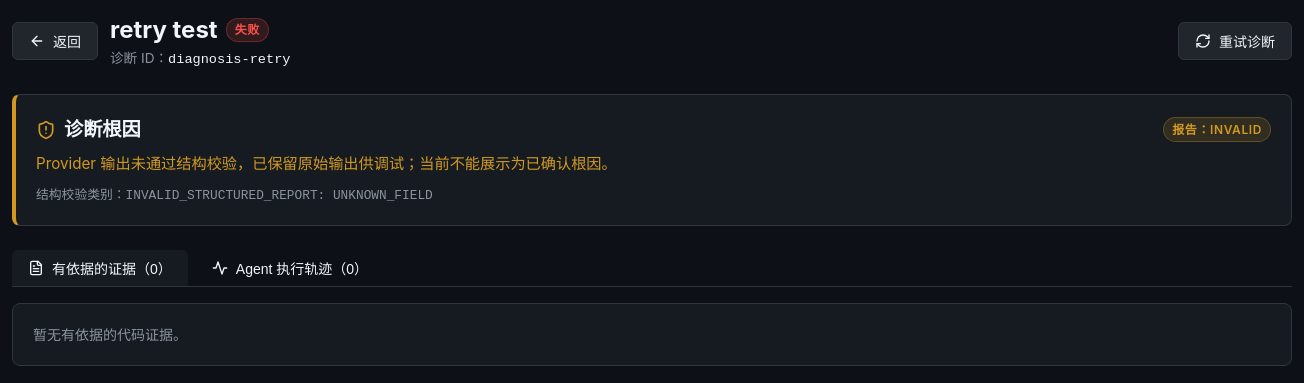
Test: DiagnosisView retry polling › clears terminal report and resumes polling after a retry
The width and height of the screenshot is (1304, 383).
Click the button "重试诊断": (1235, 41) [1178, 22, 1292, 60]
Wait 2100 ms
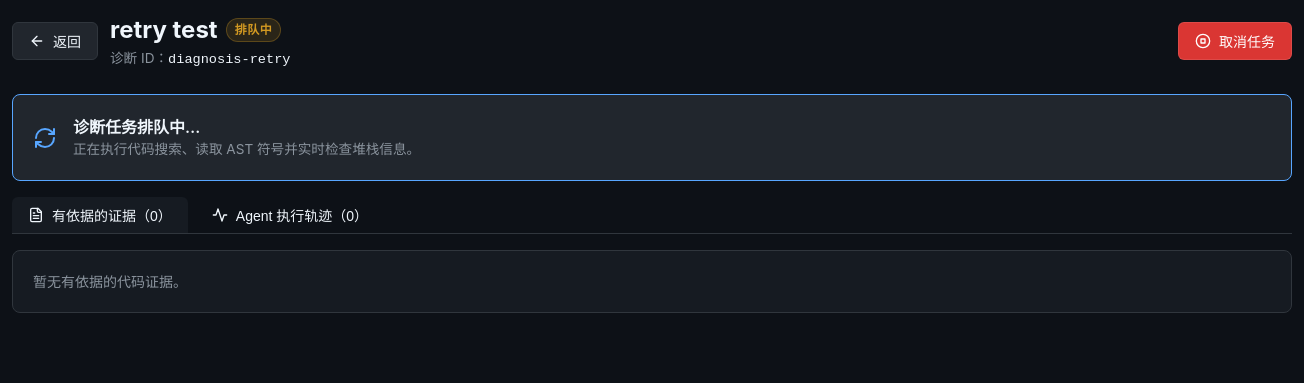
Expected: the text "INVALID" is gone
Expected: the text "排队中" is shown, [226, 18, 281, 42]
